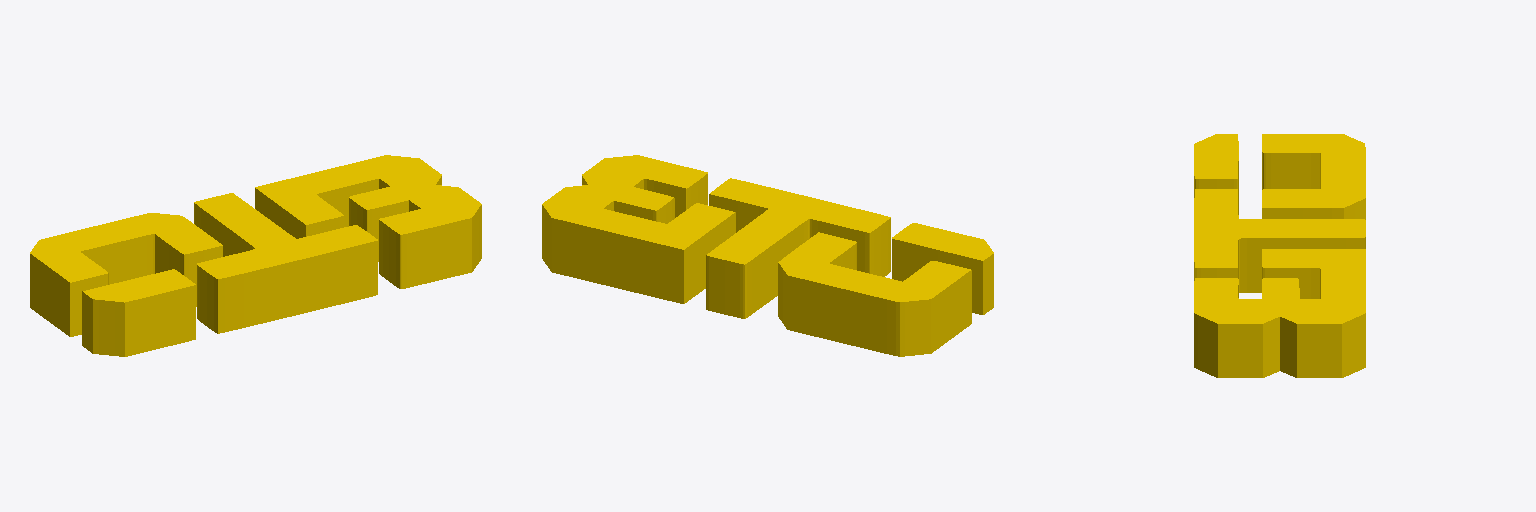
The model's file is tinker.obj.
The picture shows the model from 3 angles: view 1: azimuth 30°, elevation 25°; view 2: azimuth 150°, elevation 25°; view 3: azimuth 270°, elevation 25°; orthographic projection.
Parts seen in each view (by area): view 1: obj_0; view 2: obj_0; view 3: obj_0.
Boxes of the visible parts, x1,y1,x2,y2 form: obj_0: [30, 155, 481, 356]; obj_0: [542, 155, 993, 356]; obj_0: [1194, 134, 1365, 377].
Bounding box in the file's own units: 624 × 83.46 × 238.